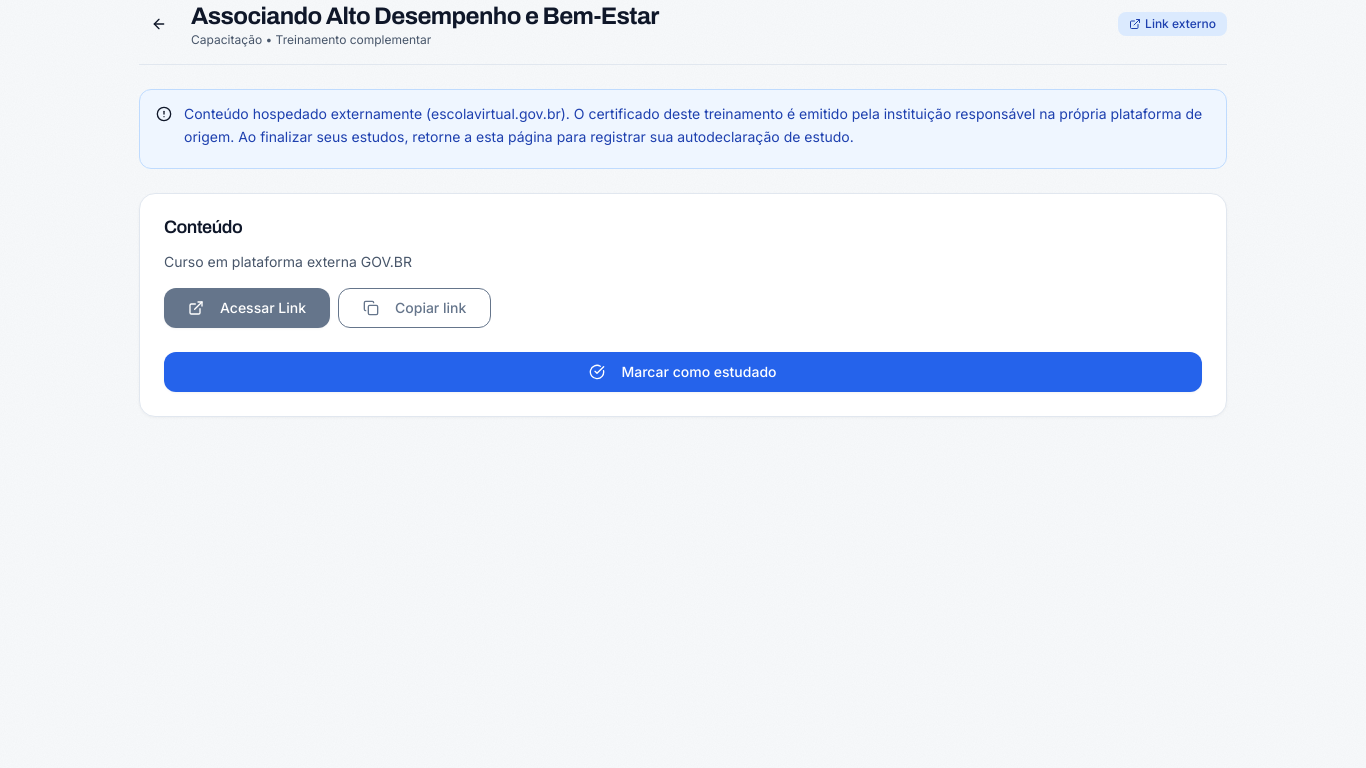
Scenario: Treinamento Link Externo e Autodeclaração (Etapa 8.7) › 2. Ao clicar em "Marcar como estudado", abre modal com checkbox obrigatório desmarcado e confirmação desabilitada
The image size is (1366, 768).
Later steps or results of the test are not shown.
What coordinates should you click on to do the following:
click the button "Marcar como estudado"
I would click on:
 (683, 372)
Its box is 164,352 -> 1202,392.
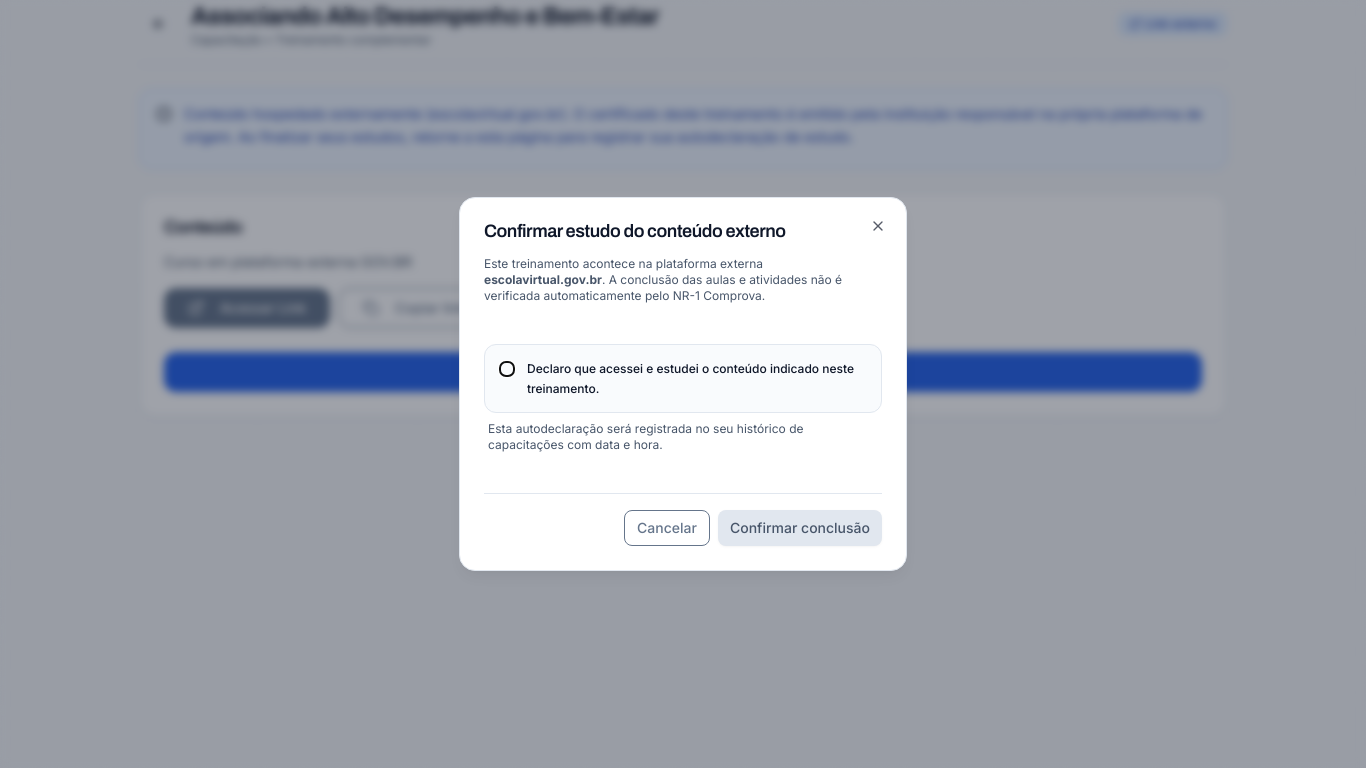
Check: the heading "Confirmar estudo do conteúdo externo" is shown, box 484,221 -> 786,241
Check: the text "Declaro que acessei e estudei o conteúdo indicado neste treinamento" is shown, box 527,361 -> 854,396
Check: the button "Confirmar conclusão" is disabled, box 718,510 -> 882,546
// Marcar o checkbox
What coordinates should you click on to do the following:
click the checkbox
I would click on:
 (507, 369)
Its box is 499,361 -> 515,377.
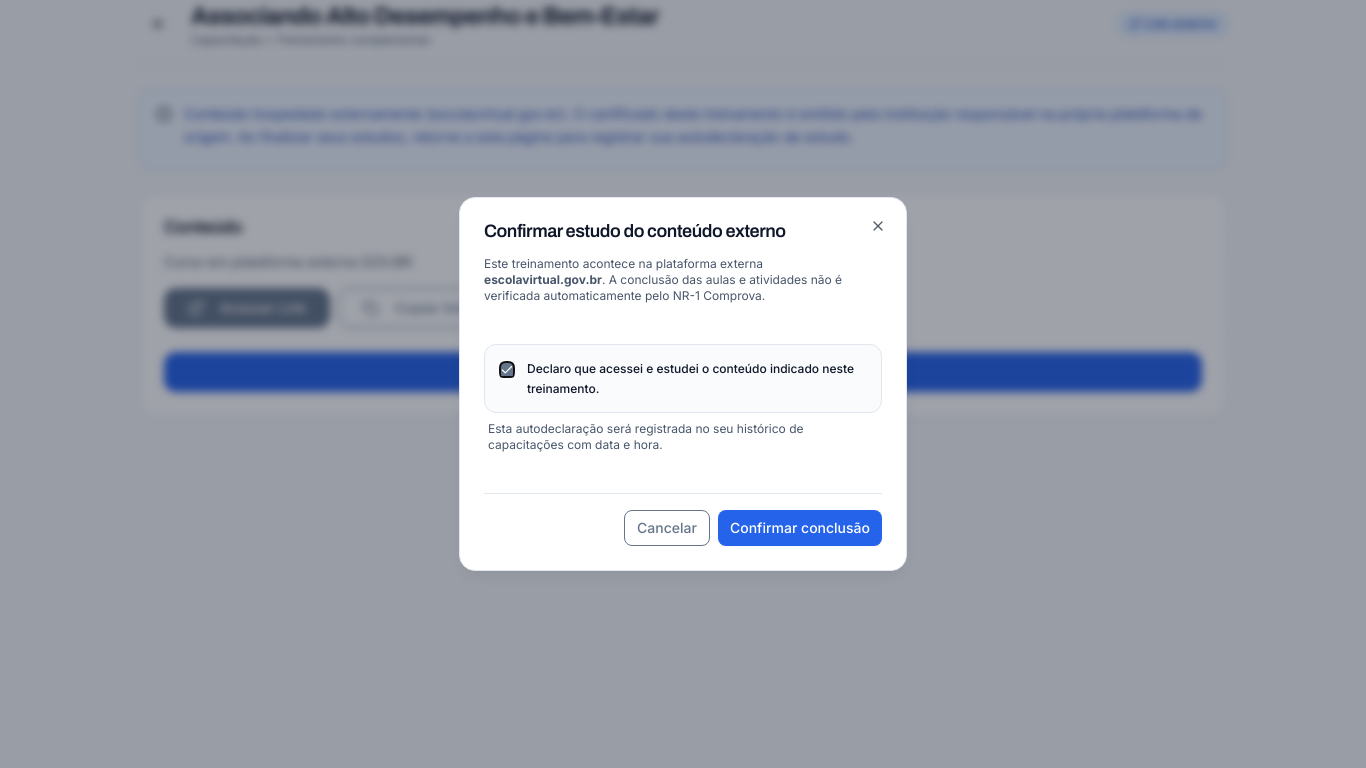
Check: the button "Confirmar conclusão" is enabled, box 718,510 -> 882,546
